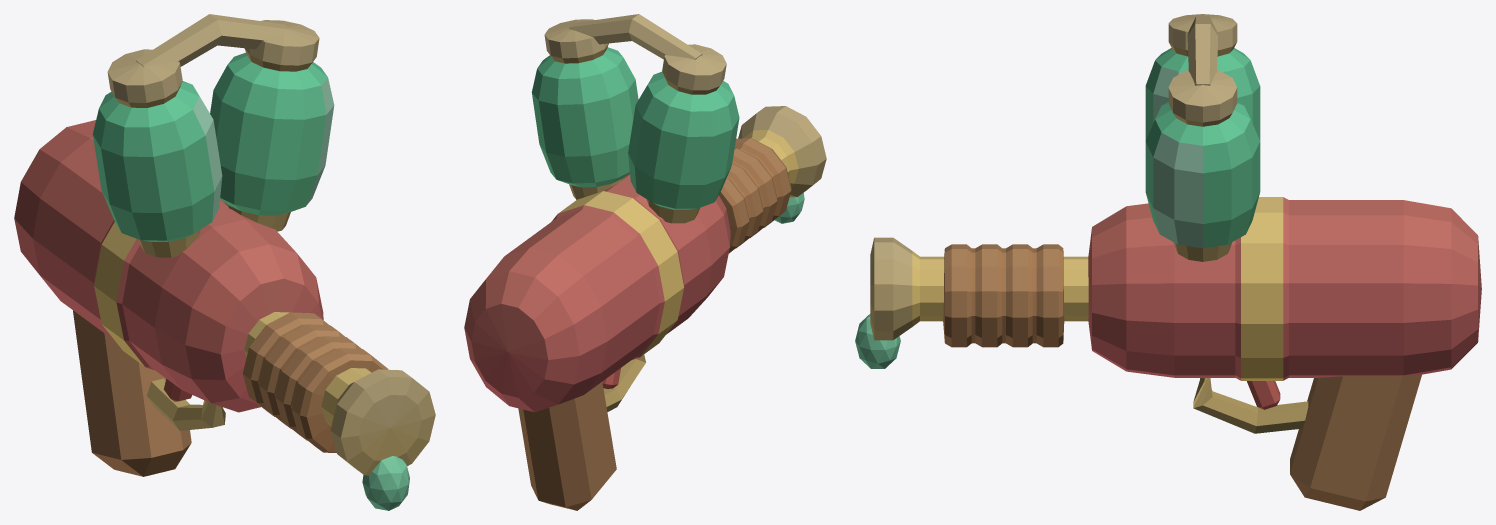
The model's file is pvp_goo_blaster_2.fbx.
3 renders of one model, left to right at view 1: azimuth 30°, elevation 25°; view 2: azimuth 150°, elevation 25°; view 3: azimuth 270°, elevation 25°, orthographic. The views are drawn at different scales.
Visible parts, largest first — view 1: pvp_goo_blaster_2; view 2: pvp_goo_blaster_2; view 3: pvp_goo_blaster_2.
Boxes of the visible parts, x1,y1,x2,y2 form: pvp_goo_blaster_2: (14,14,435,510); pvp_goo_blaster_2: (464,14,826,510); pvp_goo_blaster_2: (855,14,1481,510).
Bounding box in the file's own units: 1.28 × 2.77 × 3.28.
